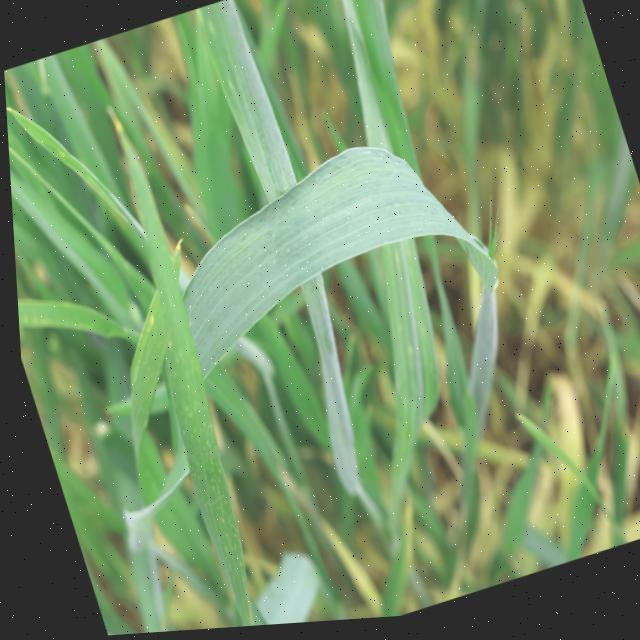healthy_wheat: (147, 113, 515, 383), (264, 266, 387, 515), (174, 0, 300, 218), (309, 0, 443, 181), (421, 279, 532, 445)
yellow_rust: (616, 387, 640, 483)
